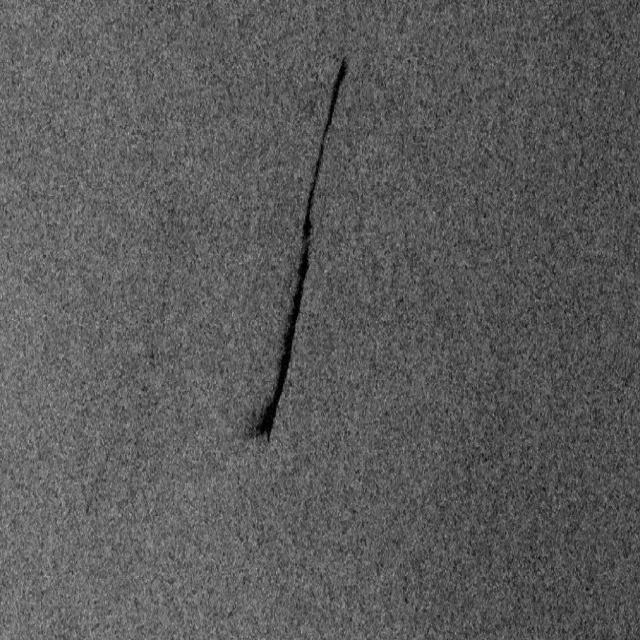oil-spill: (242, 51, 364, 456)
